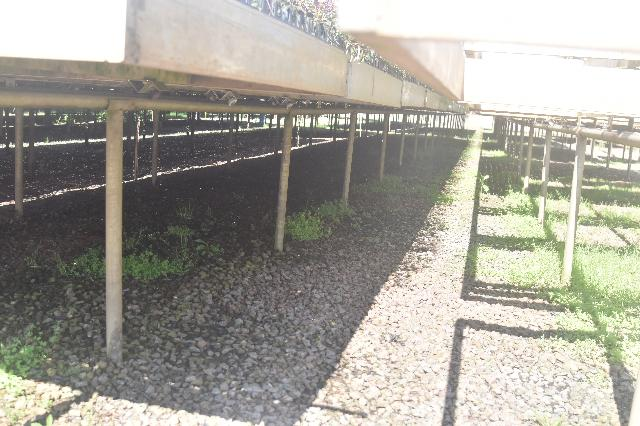MalezaMontesDelPlata: (0, 309, 73, 395), (60, 245, 202, 276), (280, 204, 339, 245)
